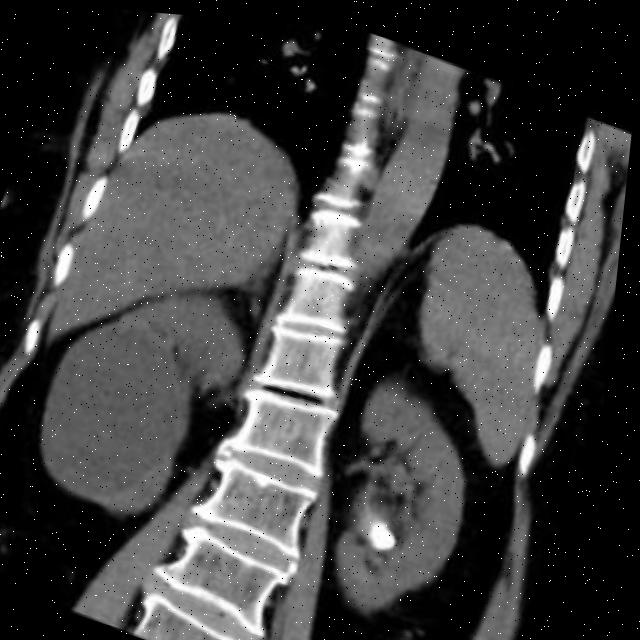Tas_Var: (364, 500, 419, 556)
